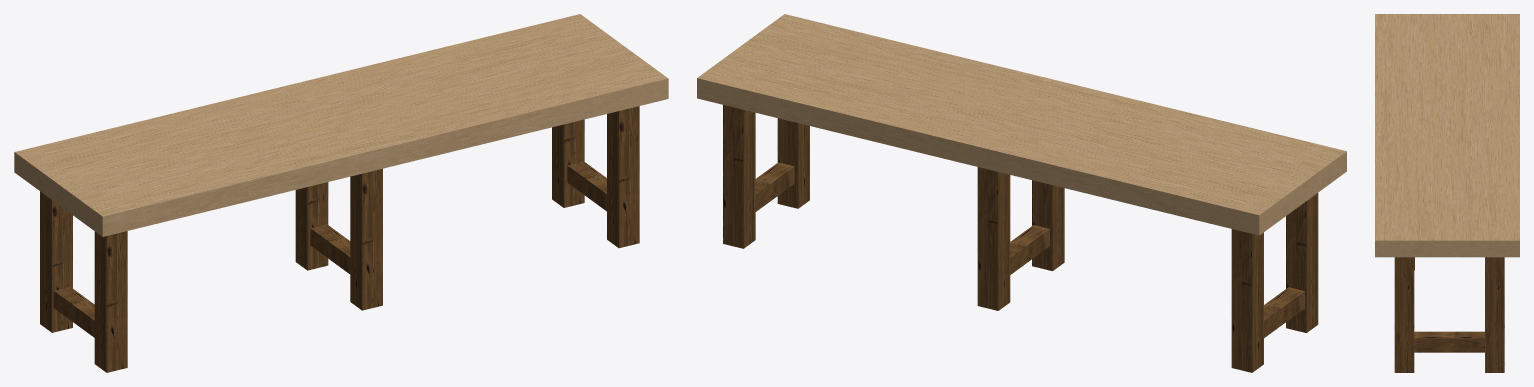
File: Bench1.fbx
3 renders of one model, left to right at view 1: azimuth 30°, elevation 25°; view 2: azimuth 150°, elevation 25°; view 3: azimuth 270°, elevation 25°, orthographic. The views are drawn at different scales.
Parts seen in each view (by area): view 1: BenchBody; view 2: BenchBody; view 3: BenchBody.
Boxes of the visible parts, <box> form: BenchBody: <box>14,14,668,372</box>; BenchBody: <box>697,14,1346,372</box>; BenchBody: <box>1375,14,1519,372</box>.
Size of the model in its own units: 7195 by 2058 by 1942.
2 materials, 2 textured.
